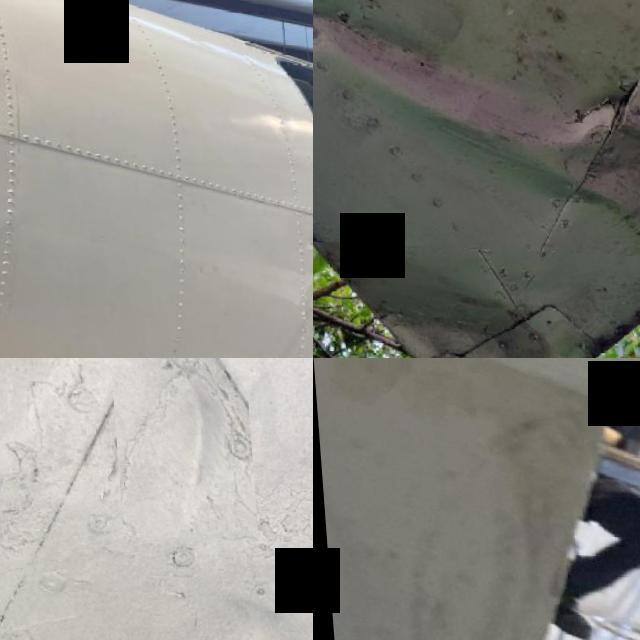Crack: (369, 77, 442, 124)
Dent: (313, 0, 640, 258), (107, 358, 253, 538), (349, 269, 558, 358), (298, 230, 313, 245)
